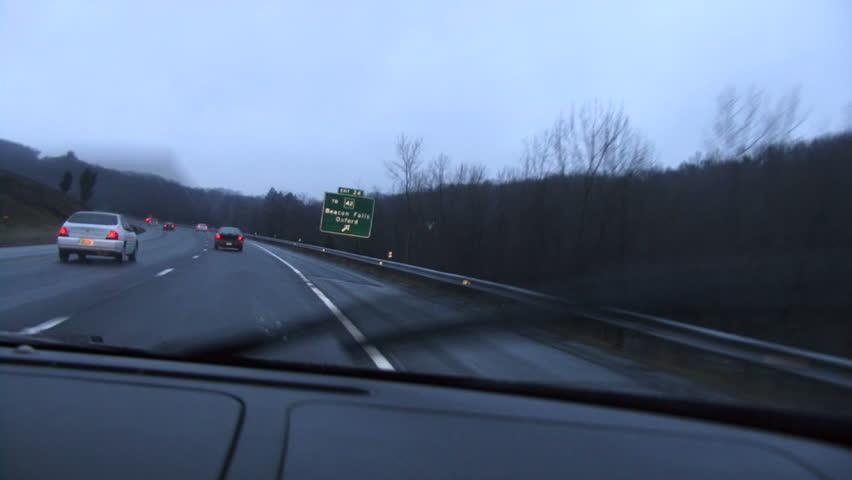car: (56, 210, 139, 265), (214, 226, 246, 252), (163, 221, 176, 232), (194, 223, 208, 232)
